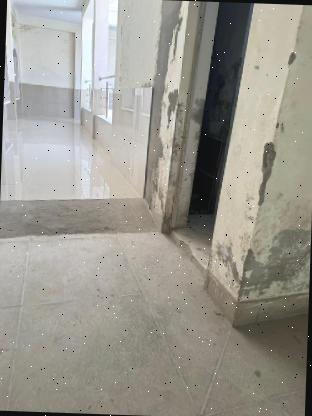door: (156, 0, 262, 278)
